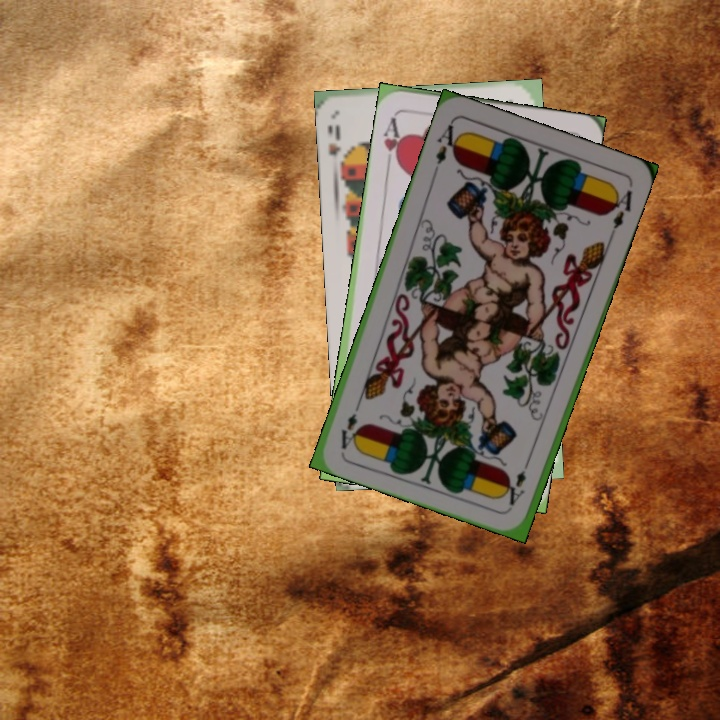EA: (505, 453, 534, 509), (431, 119, 464, 167)
HA: (379, 110, 406, 169)
S9: (325, 121, 352, 174)
